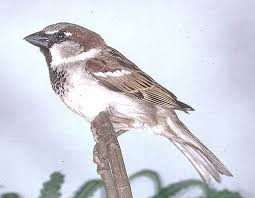hsparrow: (20, 17, 236, 188)
